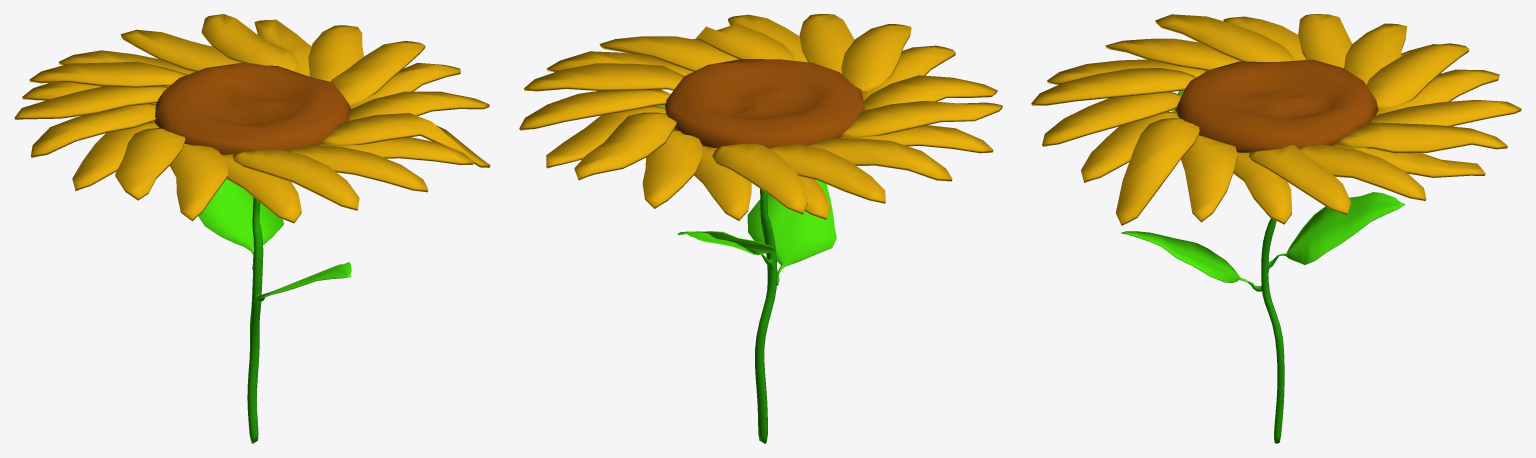
File: Sunflower.fbx
3 views of the same model, side by side, from view 1: azimuth 30°, elevation 25°; view 2: azimuth 150°, elevation 25°; view 3: azimuth 270°, elevation 25° (orthographic).
Visible parts, largest first — view 1: Petals, Head, Leaves, Stem; view 2: Petals, Head, Leaves, Stem; view 3: Petals, Head, Leaves, Stem.
Boxes of the visible parts, x1,y1,x2,y2 form: Petals: [14, 14, 490, 223]; Head: [154, 62, 350, 154]; Leaves: [198, 179, 351, 300]; Stem: [247, 197, 265, 443]; Petals: [519, 14, 1002, 220]; Head: [665, 59, 864, 148]; Leaves: [678, 180, 836, 272]; Stem: [755, 189, 779, 443]; Petals: [1031, 14, 1521, 225]; Head: [1175, 59, 1378, 152]; Leaves: [1121, 192, 1405, 287]; Stem: [1248, 218, 1284, 443].
Size of the model in its own units: 4.06 by 3.28 by 4.1.
